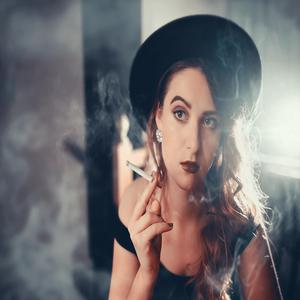cigarette: (125, 157, 166, 193)
